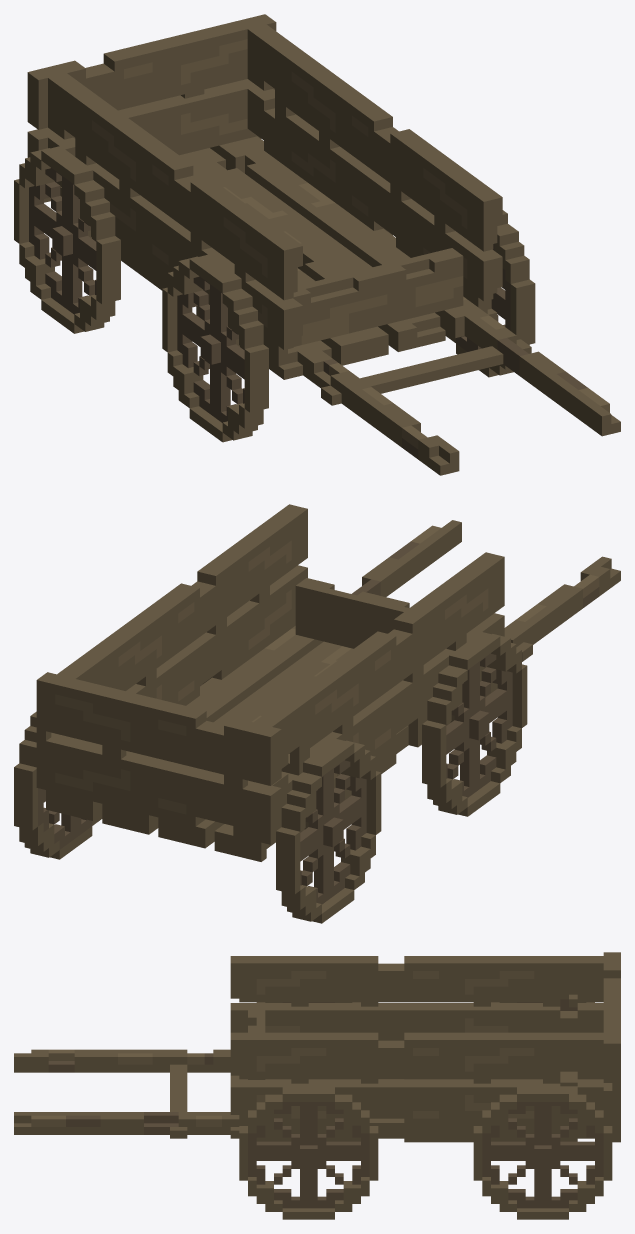
File: Medieval Town - Free Sample-3-Trolley.obj
3 views of the same model, one above another, from view 1: azimuth 30°, elevation 25°; view 2: azimuth 150°, elevation 25°; view 3: azimuth 270°, elevation 25° (orthographic). The views are drawn at different scales.
Parts seen in each view (by area): view 1: Trolley; view 2: Trolley; view 3: Trolley.
Boxes of the visible parts, x1,y1,x2,y2 form: Trolley: (14,14,620,475); Trolley: (14,504,620,923); Trolley: (14,952,620,1219).
Size of the model in its own units: 0.6 by 0.42 by 1.4.
Materials: 1 (1 with a texture image).
